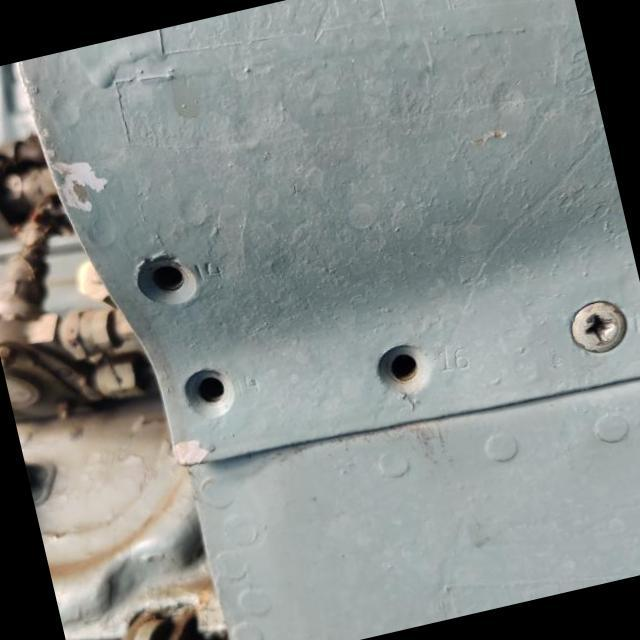Fastener Damage: (148, 328, 284, 456), (336, 304, 468, 434), (103, 216, 235, 343)
